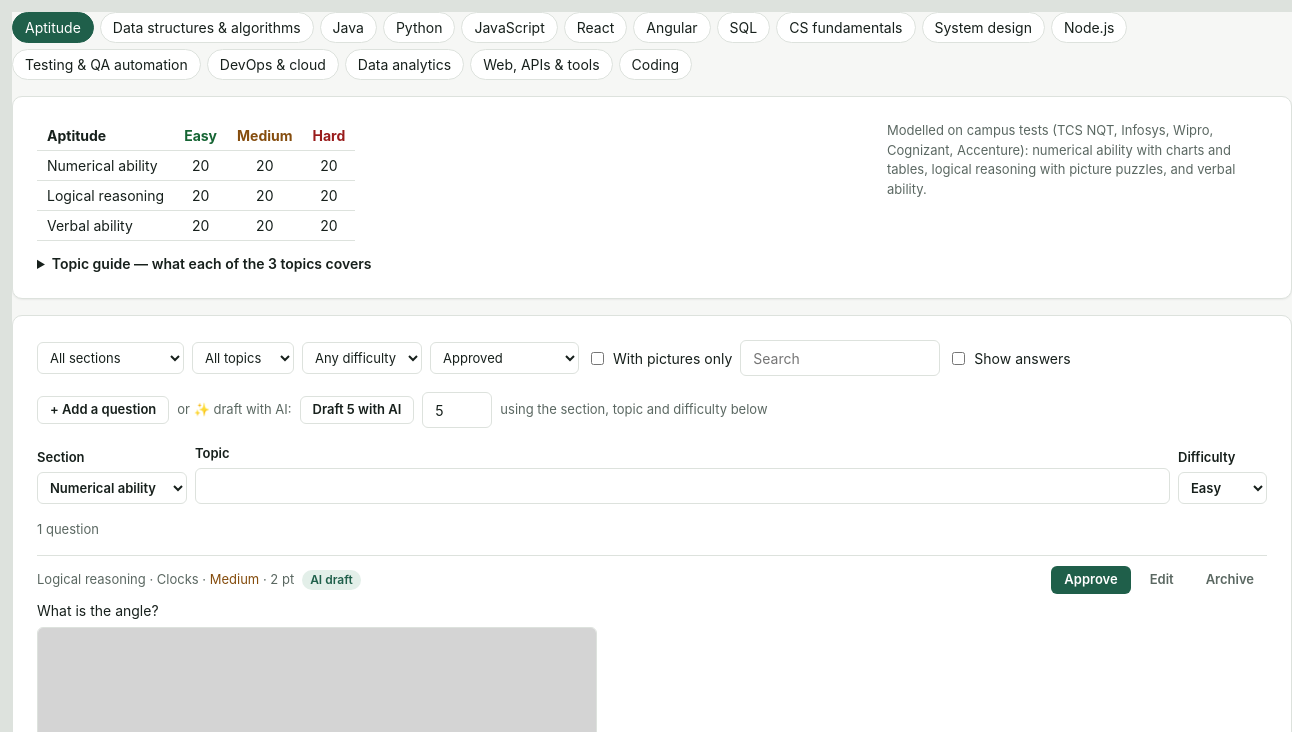
Test case: Question bank › shows pictures and lets a reviewer approve an AI draft
This screenshot has width=1292, height=732.
Expected: the text "What is the angle?" is shown, [37,602,159,619]
Expected: the text "AI draft" is shown, [302,570,361,590]
Click the button "Approve" at (1091, 580), box [1051,566,1131,594]
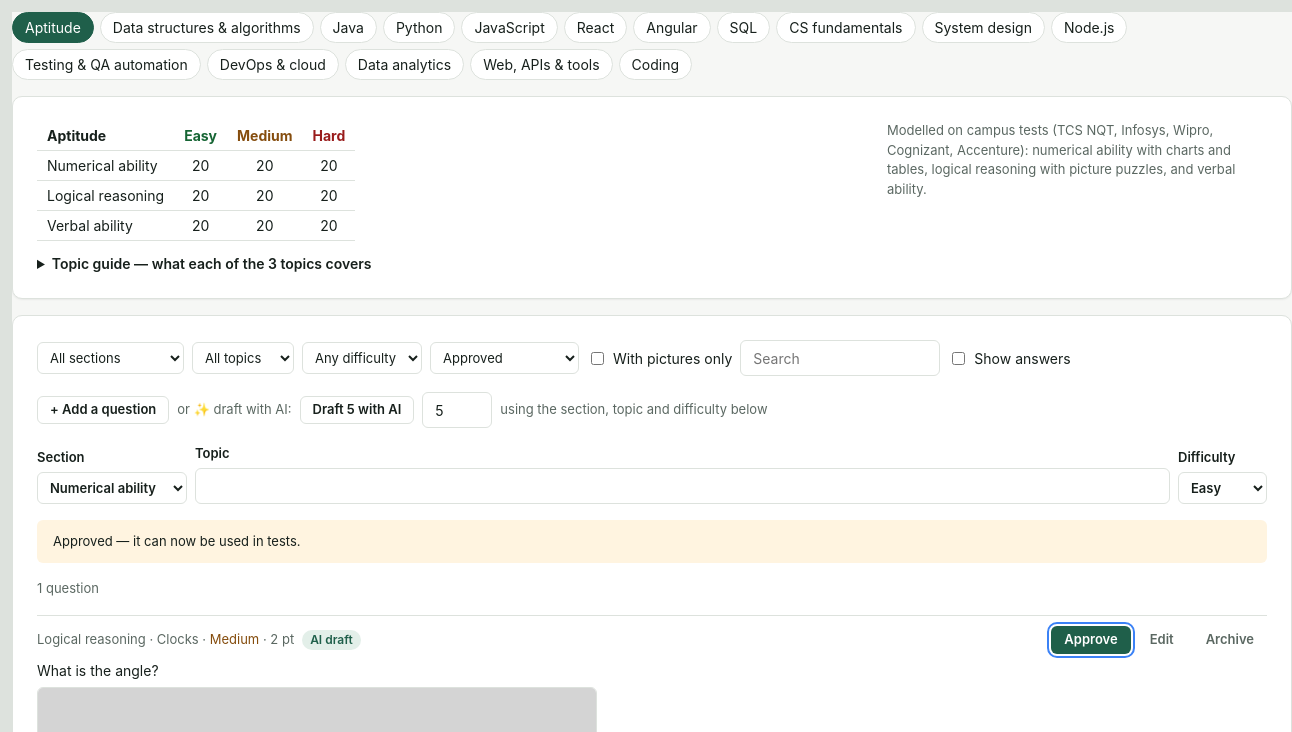
Expected: the text "Approved — it can now be used in tests." is shown, [37,520,1267,563]
